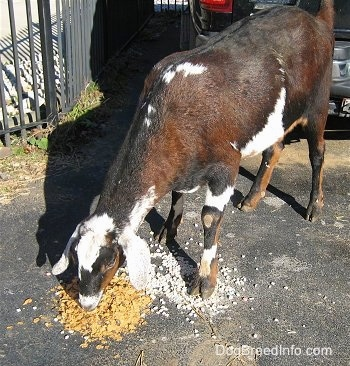goat: (51, 4, 335, 315)
